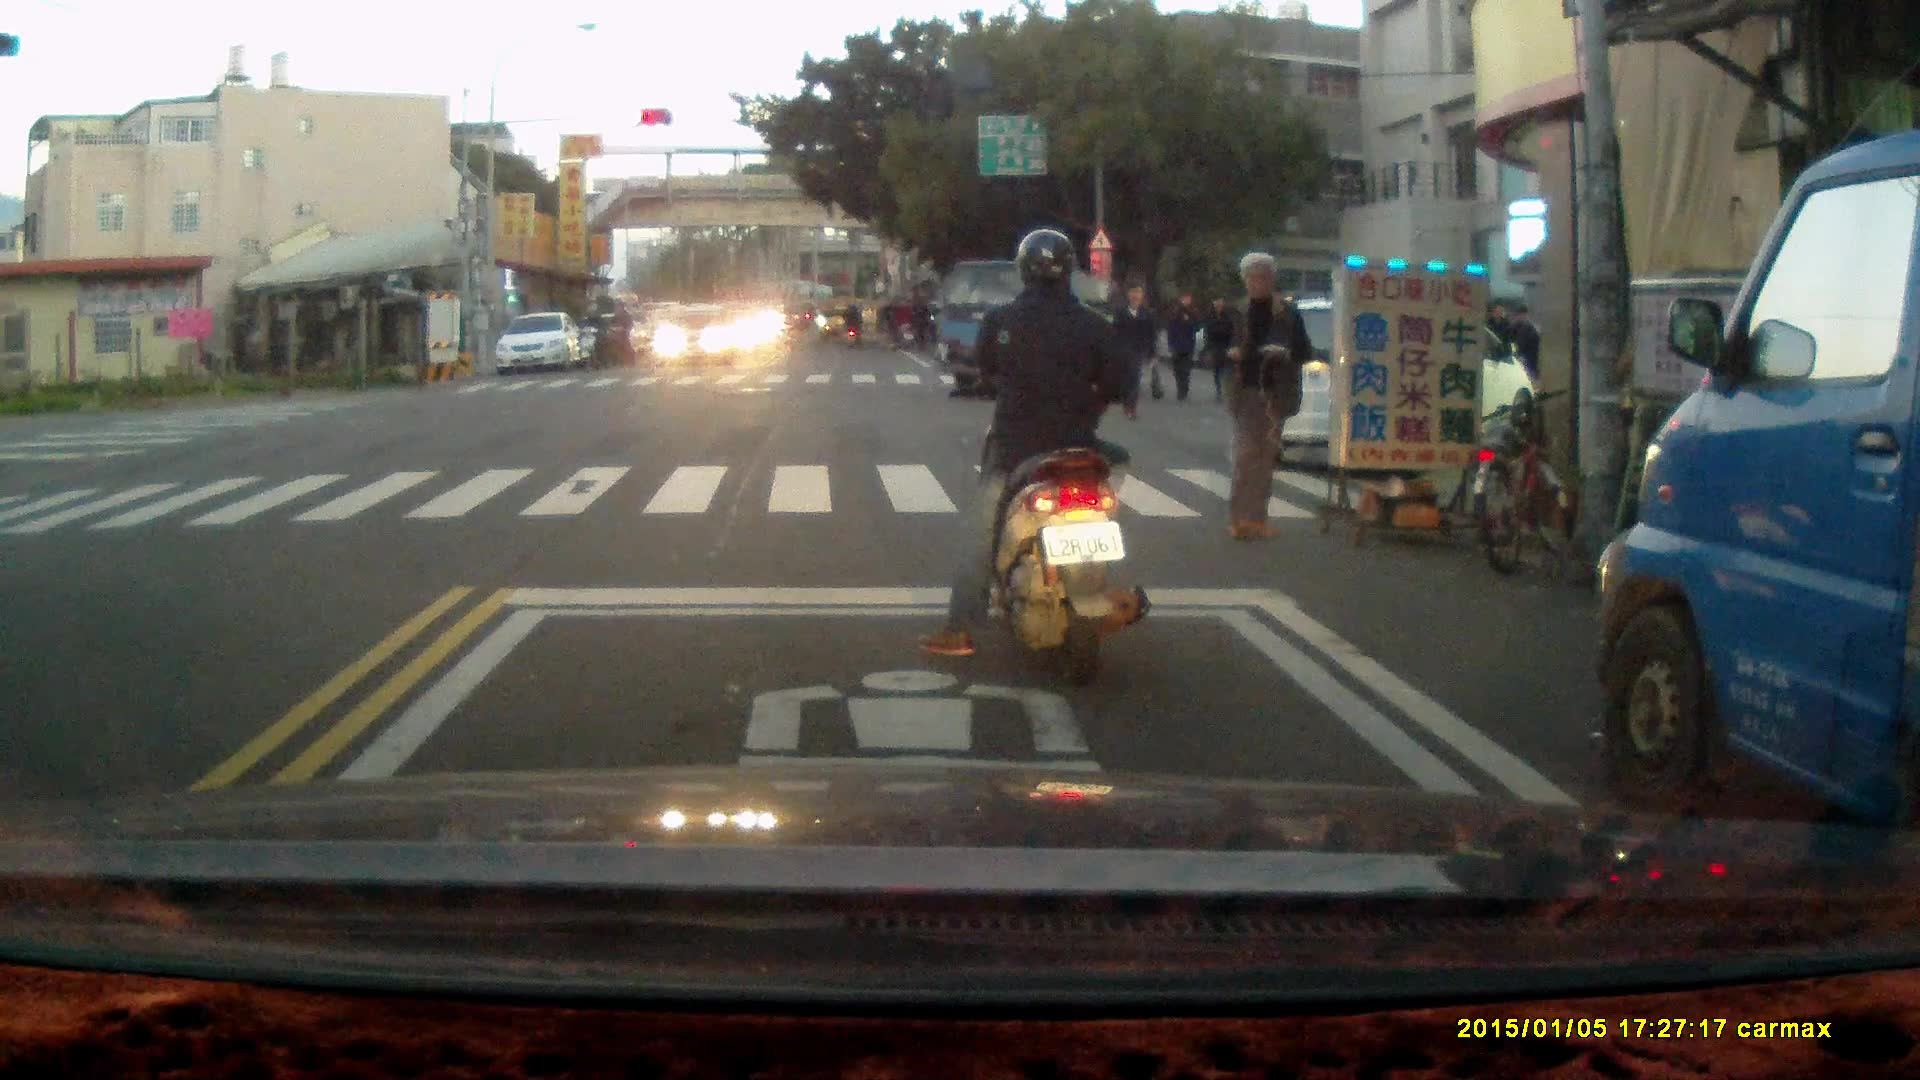pedestrian: (1209, 248, 1311, 541), (1104, 273, 1161, 423), (1202, 290, 1237, 405), (1163, 287, 1195, 398), (1507, 305, 1538, 396), (1482, 299, 1511, 383)
rider: (918, 224, 1149, 689), (577, 301, 612, 372), (600, 297, 634, 367), (888, 296, 917, 353)
vehicle: (1596, 120, 1920, 901), (1236, 303, 1533, 462), (931, 259, 1140, 397), (652, 297, 744, 368), (493, 311, 584, 378), (818, 294, 857, 340)
